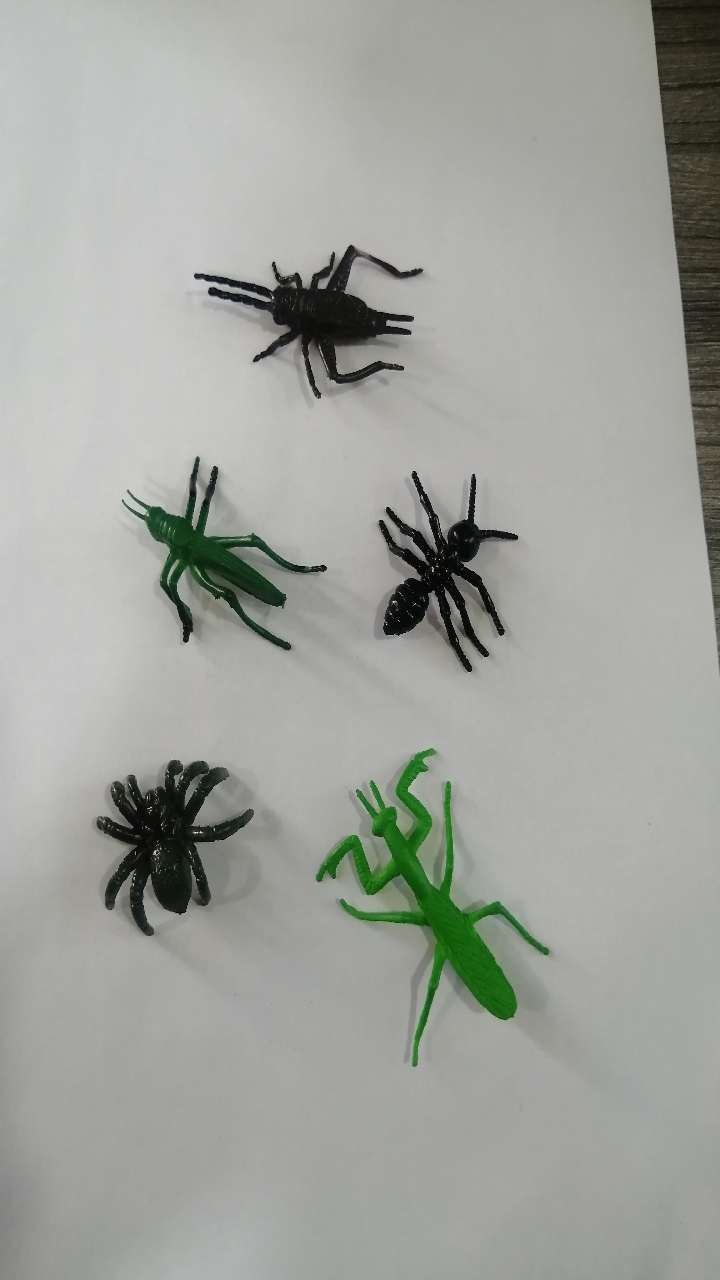intruso: (297, 714, 574, 1083), (154, 188, 455, 414), (80, 423, 344, 679), (69, 703, 277, 971), (343, 432, 532, 685)
